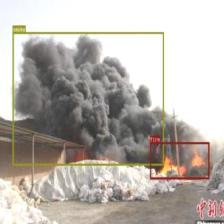fire: (150, 141, 210, 179)
smoke: (12, 32, 164, 165)
